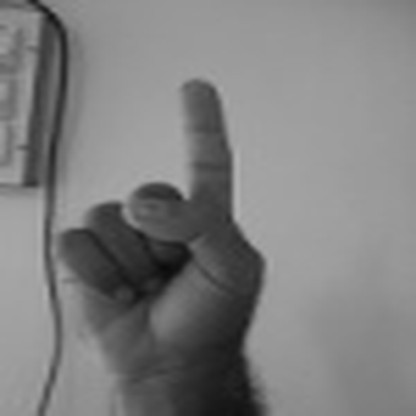d: (52, 77, 268, 386)
